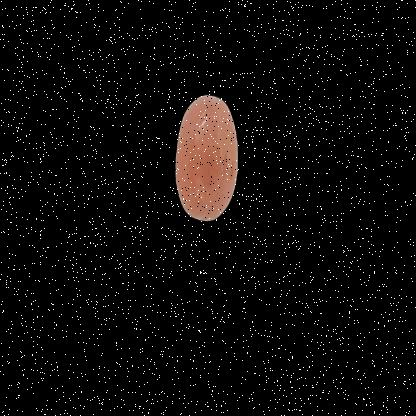opiqutan: (155, 71, 278, 240)
